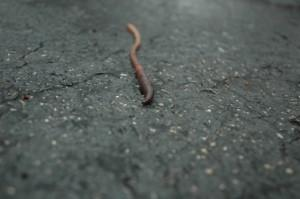earthworms: (102, 24, 187, 114)
